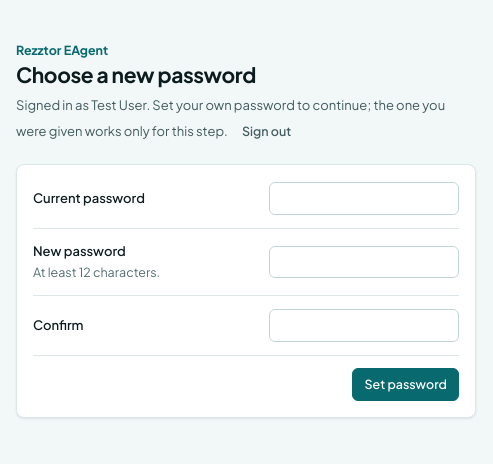
forced password change › shows the server's refusal instead of reloading as if it had worked
The image size is (493, 464).
Type "wrong-one" into the password field named "Current password".
click(364, 198); type("wrong-one")  # box [269,182,459,215]
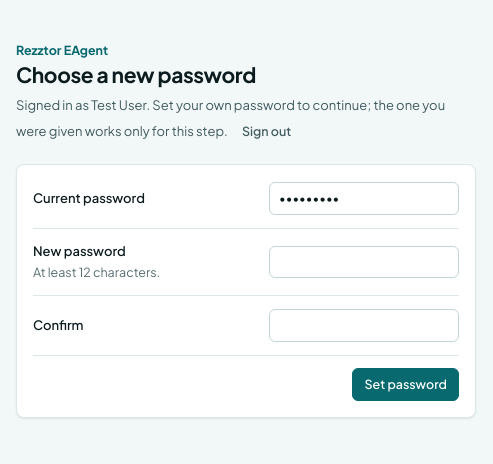
Type "long-enough-1" into the password field named "New password".
click(364, 262); type("long-enough-1")  # box [269,246,459,278]
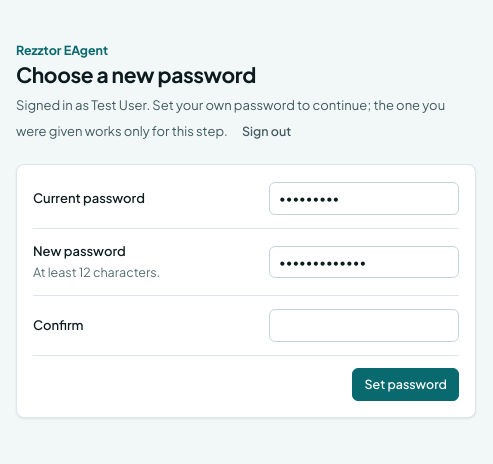
Type "long-enough-1" into the password field named "Confirm new password".
click(364, 325); type("long-enough-1")  # box [269,309,459,342]
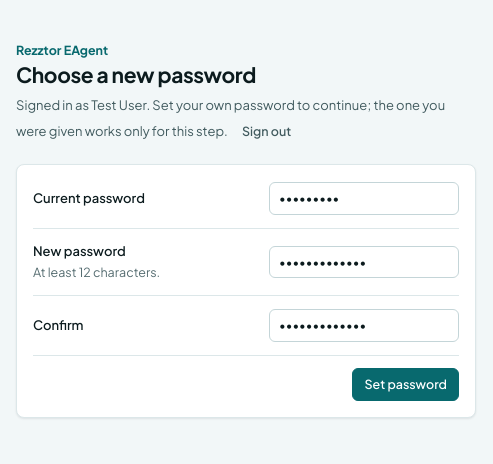
Click the button "Set password".
click(406, 384)  # box [352,368,459,401]
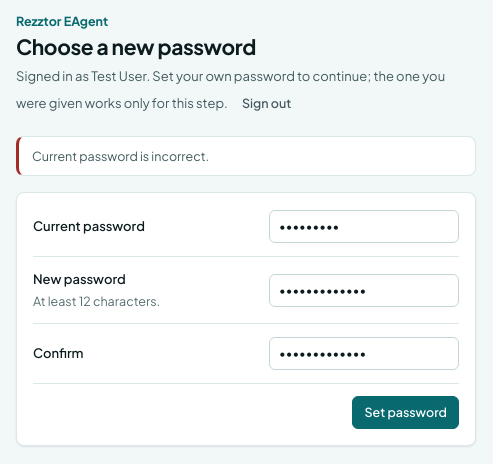
expect the text "Current password is incorrect." is shown: met, box [32,147,209,165]
